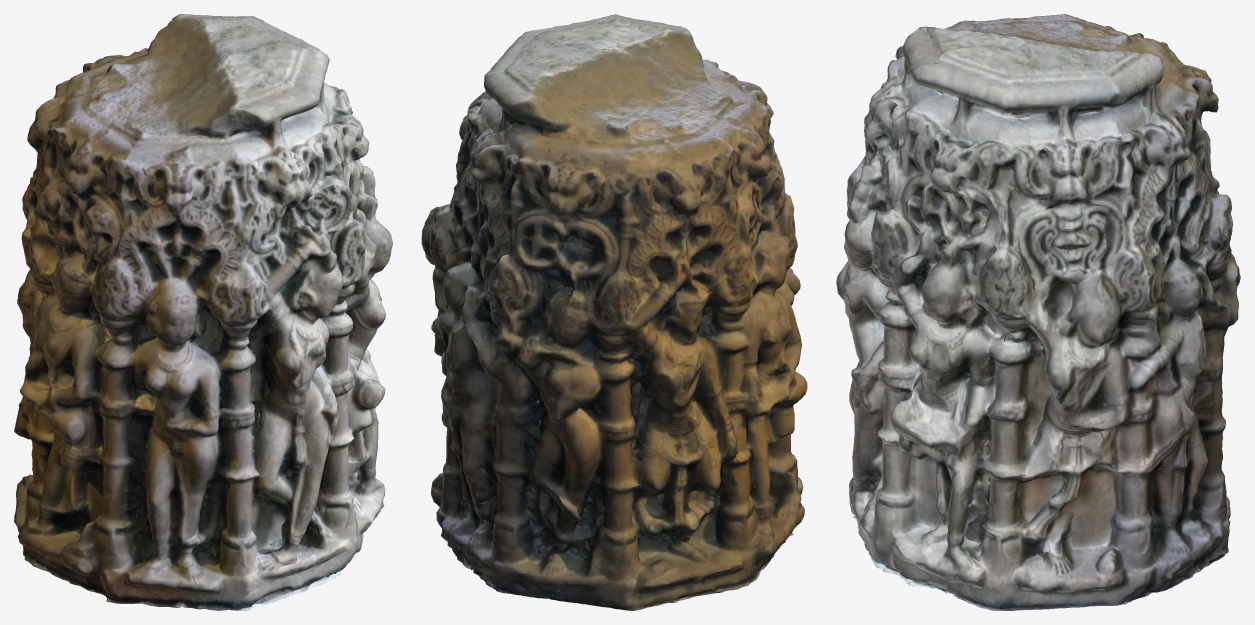
Rendered from preview.glb.
3 renders of one model, left to right at view 1: azimuth 30°, elevation 25°; view 2: azimuth 150°, elevation 25°; view 3: azimuth 270°, elevation 25°, orthographic. The views are drawn at different scales.
Visible parts, largest first — view 1: Object_2; view 2: Object_2; view 3: Object_2.
Boxes of the visible parts, x1=… form: Object_2: x1=14, y1=14, x2=392, y2=610; Object_2: x1=421, y1=14, x2=807, y2=610; Object_2: x1=836, y1=14, x2=1240, y2=610.
Bounding box in the file's own units: 5.93 × 8.08 × 5.81.
Materials: 1 (1 with a texture image).
